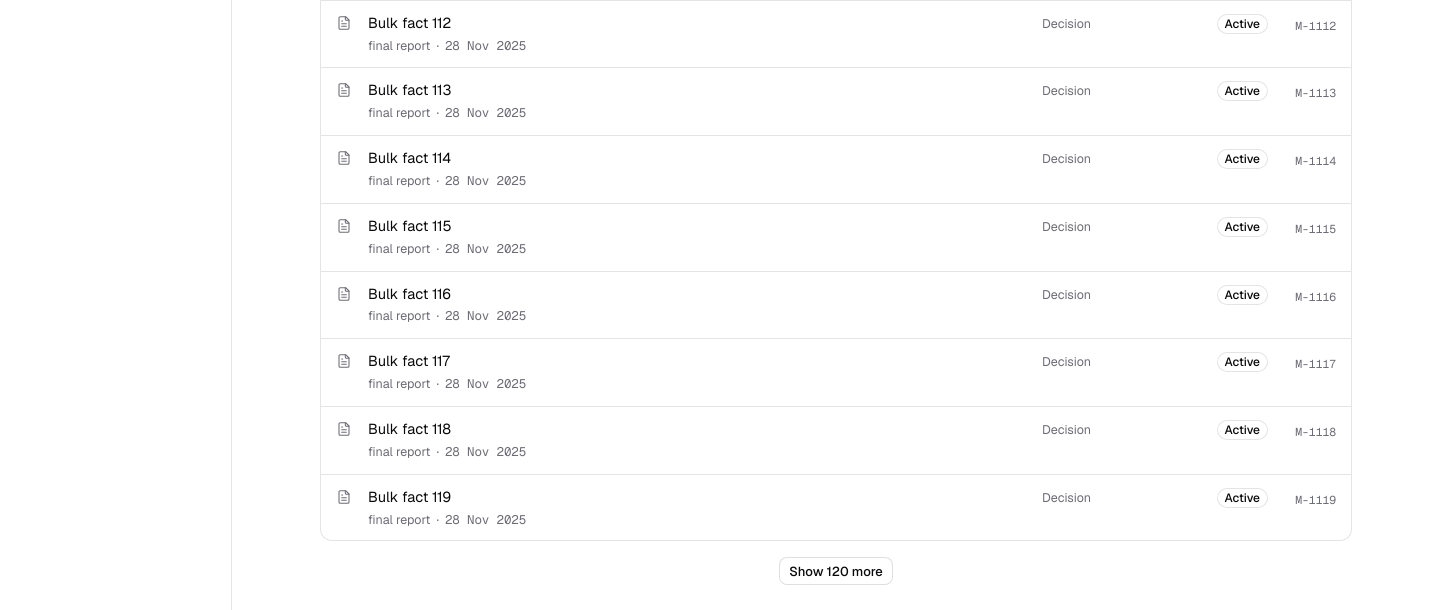
Test case: Memory › paging › shows 120 facts at a time and more on request
(page scrolled)
Click the button "Show 120 more".
click(836, 571)  # box 779,557 -> 893,585
(page scrolled)
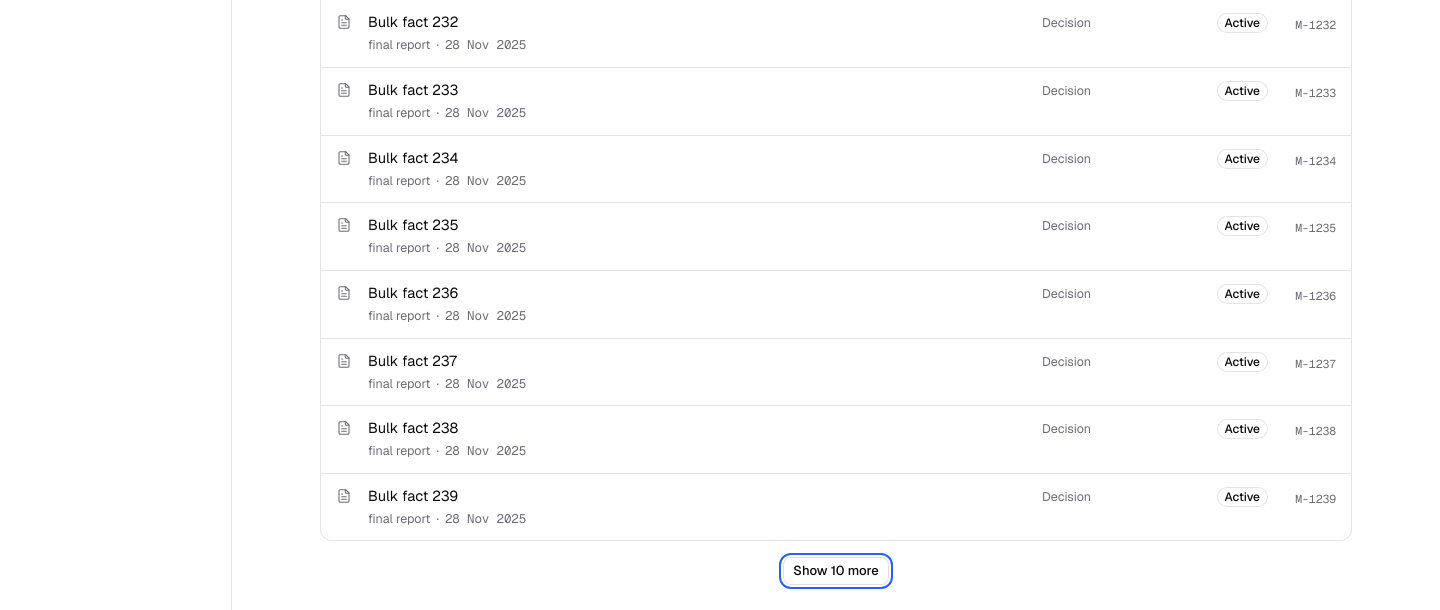
Click the button "Show 10 more".
click(836, 571)  # box 783,557 -> 889,585
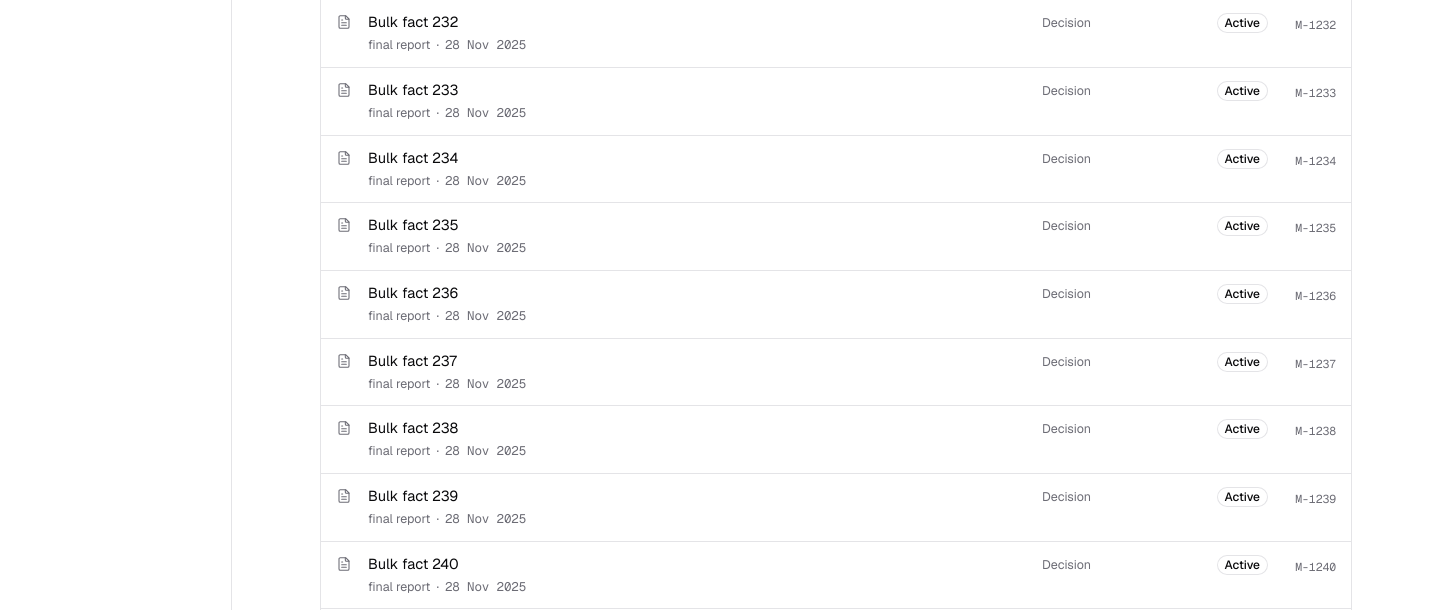
Check: the button "Show 10 more" is gone
